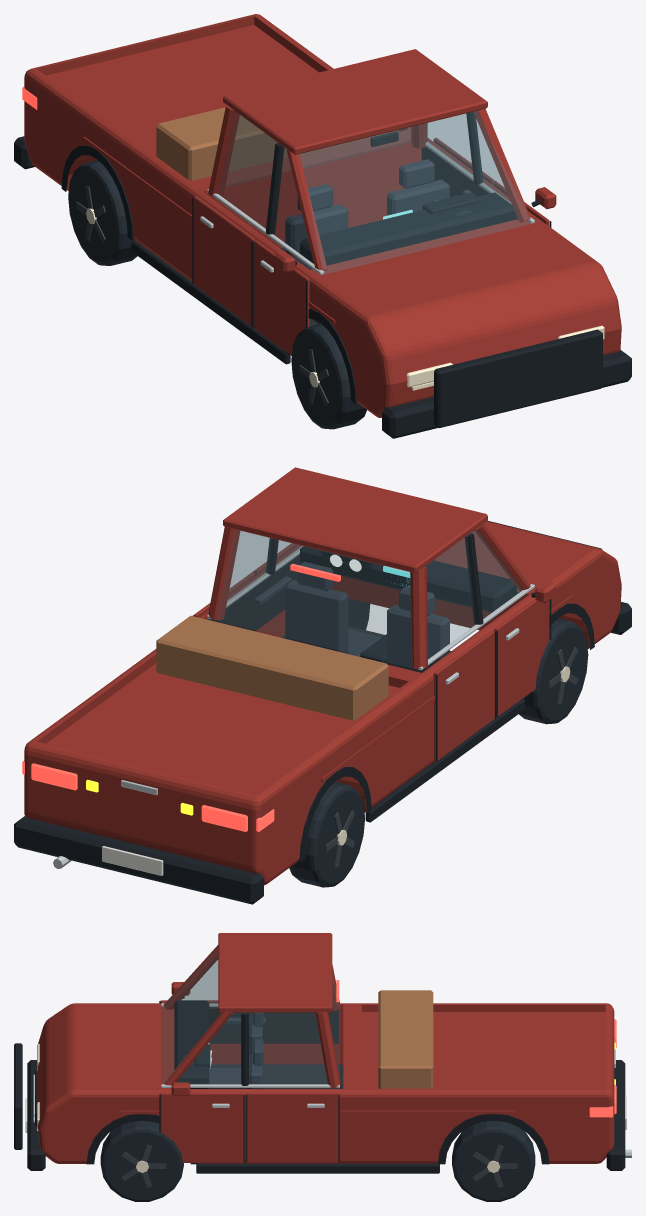
Rendered from Car_Pickup.fbx.
3 renders of one model, top to bottom at view 1: azimuth 30°, elevation 25°; view 2: azimuth 150°, elevation 25°; view 3: azimuth 270°, elevation 25°, orthographic. The views are drawn at different scales.
Parts seen in each view (by area): view 1: Body.003, WindowCabin.003, Roof.003, BullBar, Dashboard.003, CargoBox, DoorPanel_RR.003, Tire_FR.003, Tire_RR.003, DoorPanel_FR.003, FrontBumper.003, SideSkirt_R.003 (+15 smaller); view 2: Body.003, WindowCabin.003, Roof.003, CargoBox, RearBumper.003, DoorPanel_RR.003, Tire_RR.003, Dashboard.003, DoorPanel_FR.003, Tire_FR.003, SeatBack.006, SeatBack.007 (+14 smaller); view 3: Body.003, WindowCabin.003, Roof.003, DoorPanel_RL.003, CargoBox, DoorPanel_FL.003, Tire_RL.003, Tire_FL.003, DoorTrim.007, SideSkirt_L.003, Dashboard.003, CabinFloor.003 (+12 smaller).
Part boxes in pixels (x1,y1,x2,y2): Body.003: (24, 14, 621, 417); WindowCabin.003: (218, 111, 531, 274); Roof.003: (223, 49, 487, 154); BullBar: (434, 329, 602, 427); Dashboard.003: (300, 192, 516, 265); CargoBox: (156, 107, 387, 180); DoorPanel_RR.003: (194, 196, 254, 325); Tire_FR.003: (291, 323, 366, 429); Tire_RR.003: (68, 160, 137, 265); DoorPanel_FR.003: (254, 240, 309, 355); FrontBumper.003: (382, 350, 631, 438); SideSkirt_R.003: (131, 240, 290, 364); Body.003: (24, 521, 621, 885); WindowCabin.003: (211, 528, 529, 669); Roof.003: (223, 467, 487, 573); CargoBox: (156, 615, 388, 720); RearBumper.003: (14, 816, 263, 904); DoorPanel_RR.003: (433, 630, 494, 761); Tire_RR.003: (289, 781, 364, 887); Dashboard.003: (300, 546, 516, 612); DoorPanel_FR.003: (494, 599, 549, 716); Tire_FR.003: (519, 618, 588, 724); SeatBack.006: (285, 580, 348, 653); SeatBack.007: (387, 605, 449, 672); Body.003: (38, 1003, 614, 1163); WindowCabin.003: (161, 949, 339, 1083); Roof.003: (218, 933, 332, 1012); DoorPanel_RL.003: (246, 1092, 338, 1162); CargoBox: (378, 990, 433, 1088); DoorPanel_FL.003: (160, 1092, 243, 1162); Tire_RL.003: (452, 1120, 535, 1201); Tire_FL.003: (100, 1120, 183, 1201); DoorTrim.007: (209, 1007, 338, 1043); SideSkirt_L.003: (196, 1163, 439, 1173); Dashboard.003: (174, 1000, 209, 1088); CabinFloor.003: (210, 1064, 343, 1088).
Size of the model in its own units: 2.26 by 1.87 by 5.63.
